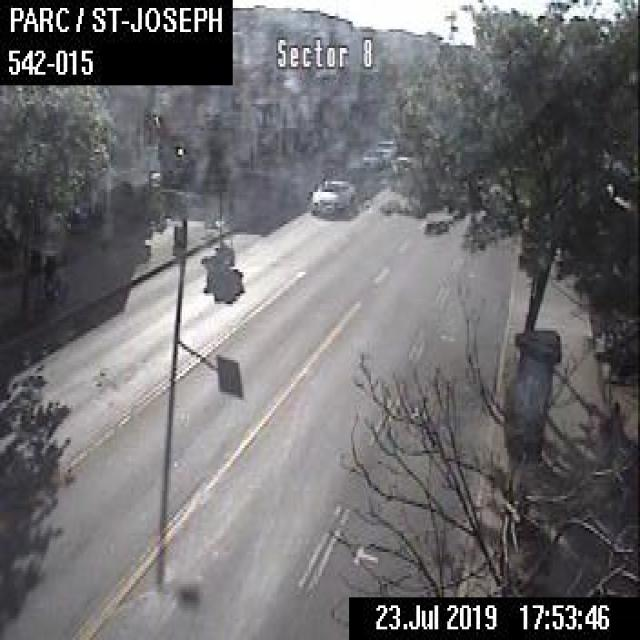pedestrian: (40, 252, 56, 296)
vehicle: (307, 173, 358, 216), (374, 139, 397, 162), (360, 147, 382, 168)
